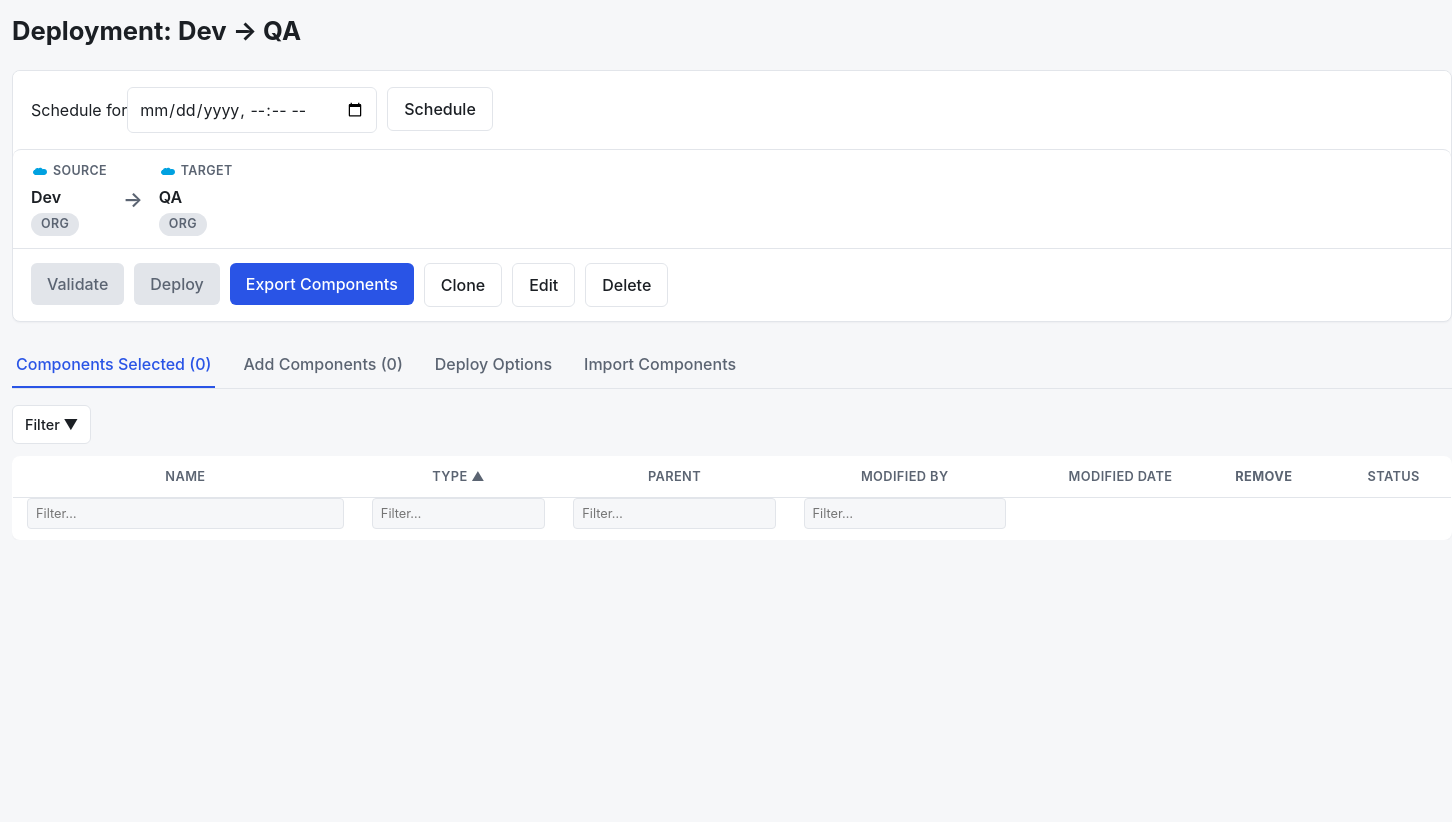
DeploymentDetailPage — scheduling › shows an error and stays on the picker when scheduling fails
The width and height of the screenshot is (1452, 822).
Type "2026-09-01T09:00" into the field labelled "Schedule for" at (252, 110), box x1=127 y1=87 x2=377 y2=133
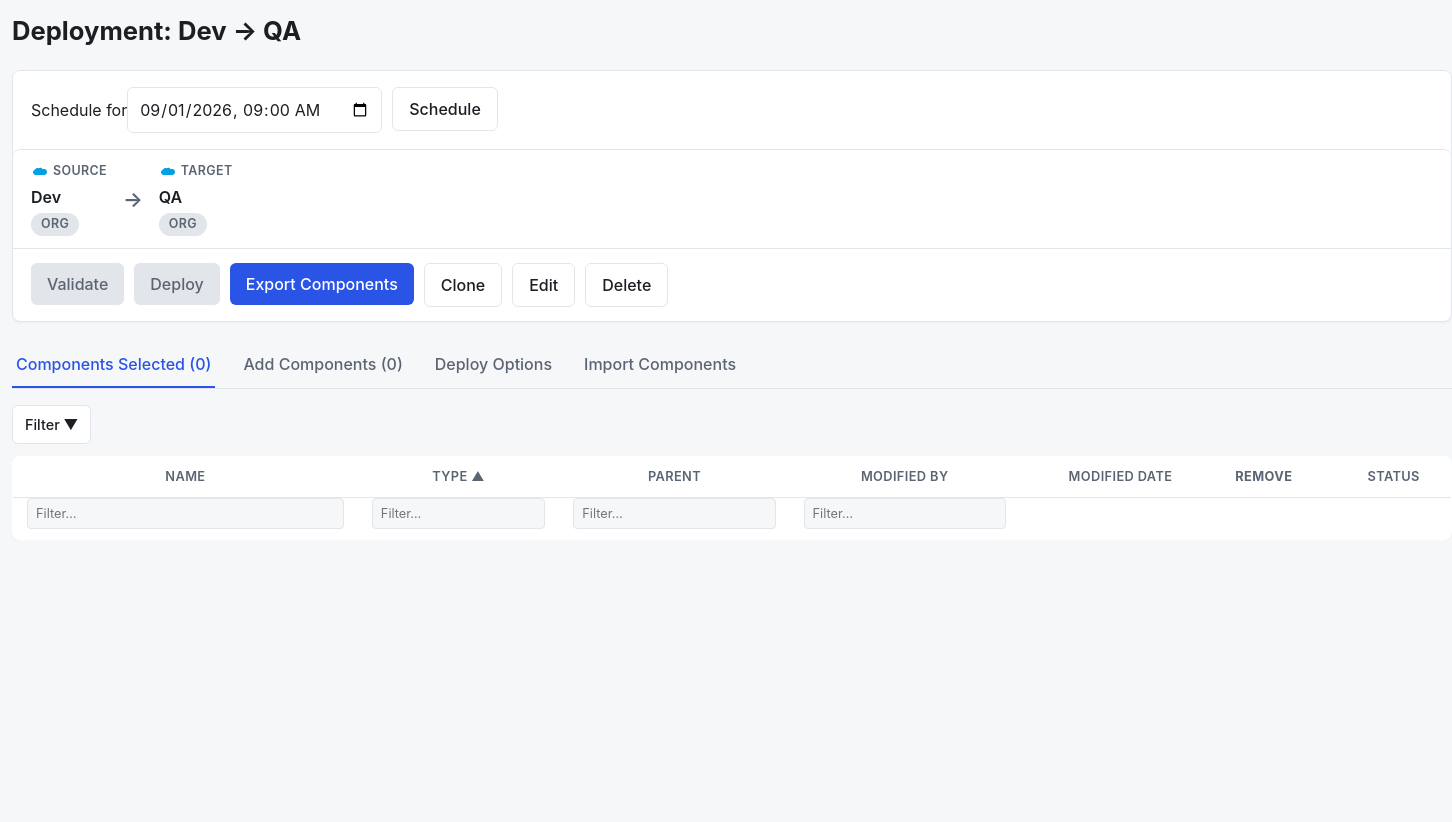
Click the button "Schedule" at (445, 109), box x1=392 y1=87 x2=498 y2=131
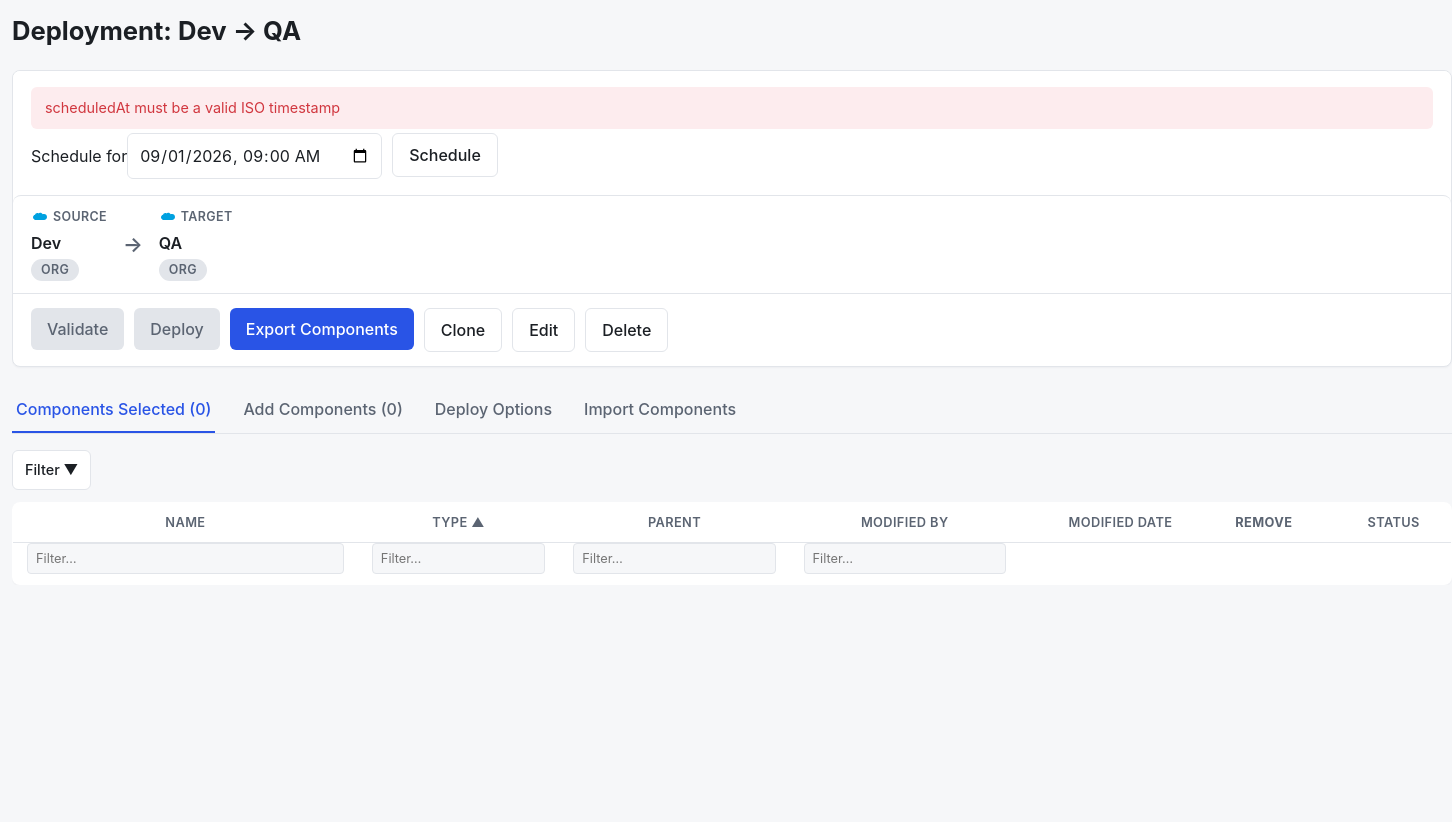
Check: the message reads "scheduledAt must be a valid ISO timestamp", box x1=45 y1=99 x2=340 y2=116
